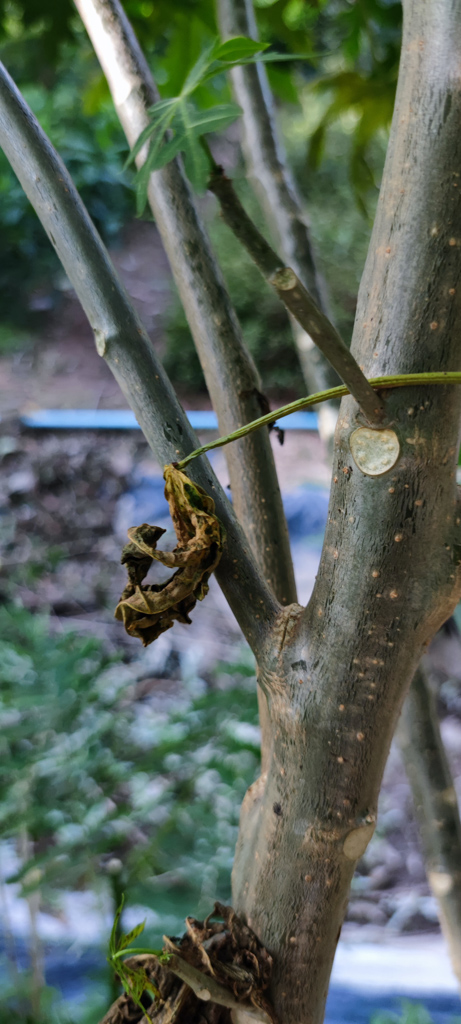Alternaria brassicicola: (107, 449, 232, 653), (156, 902, 282, 1012)
